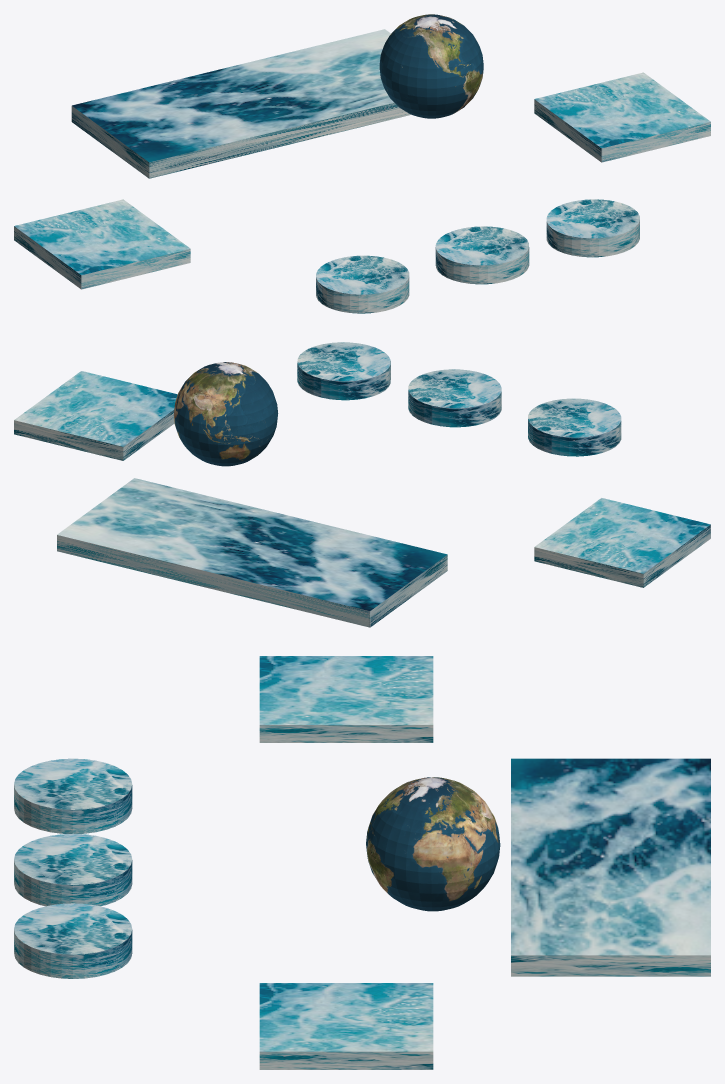
The model's file is businesscard.glb.
3 renders of one model, top to bottom at view 1: azimuth 30°, elevation 25°; view 2: azimuth 150°, elevation 25°; view 3: azimuth 270°, elevation 25°, orthographic. The views are drawn at different scales.
Visible parts, largest first — view 1: Cube.001, Earth; view 2: Cube.001, Earth; view 3: Cube.001, Earth.
Part boxes in pixels (x1,y1,x2,y2): Cube.001: [14, 29, 710, 313]; Earth: [379, 14, 483, 118]; Cube.001: [14, 342, 710, 627]; Earth: [173, 362, 278, 466]; Cube.001: [14, 656, 710, 1069]; Earth: [366, 777, 500, 911].
Bounding box in the file's own units: 6.96 × 1.28 × 5.18.
2 materials, 2 textured.
